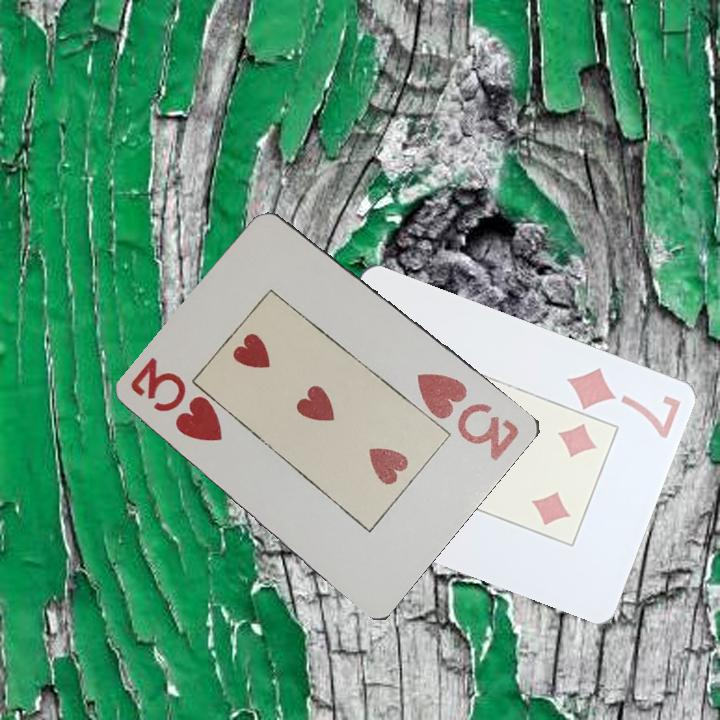3h: (412, 369, 523, 465), (127, 356, 226, 445)
7d: (561, 364, 684, 441)
